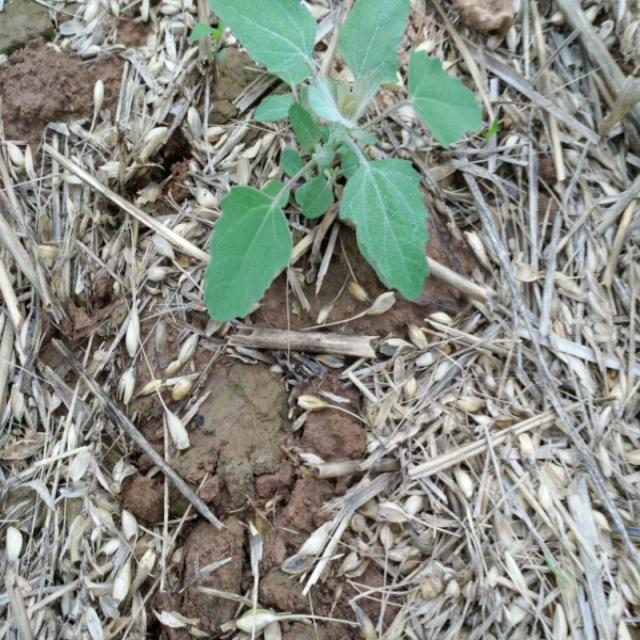goosefoots: (190, 3, 471, 350)
